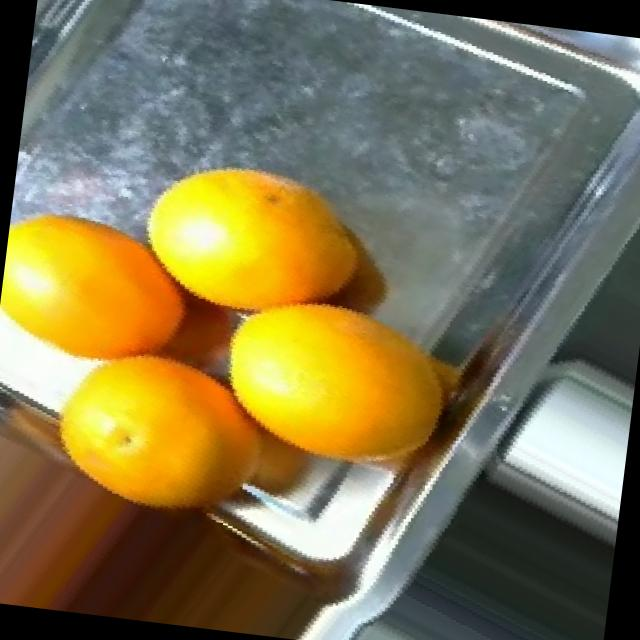Fruit: (110, 132, 336, 341), (0, 185, 196, 392)
